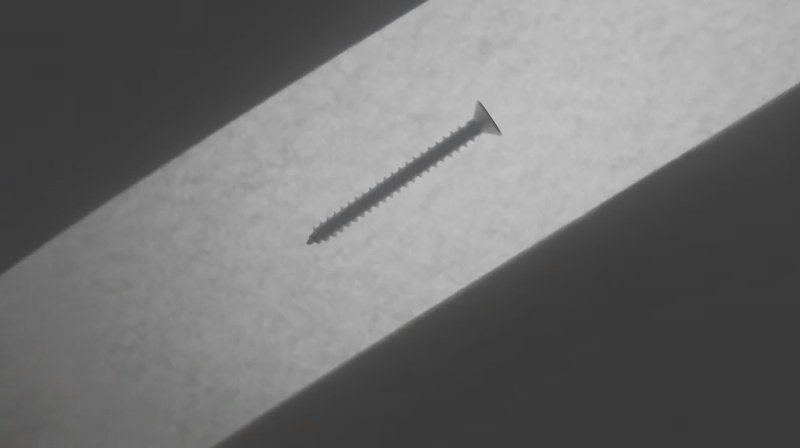S002: (303, 97, 506, 246)
